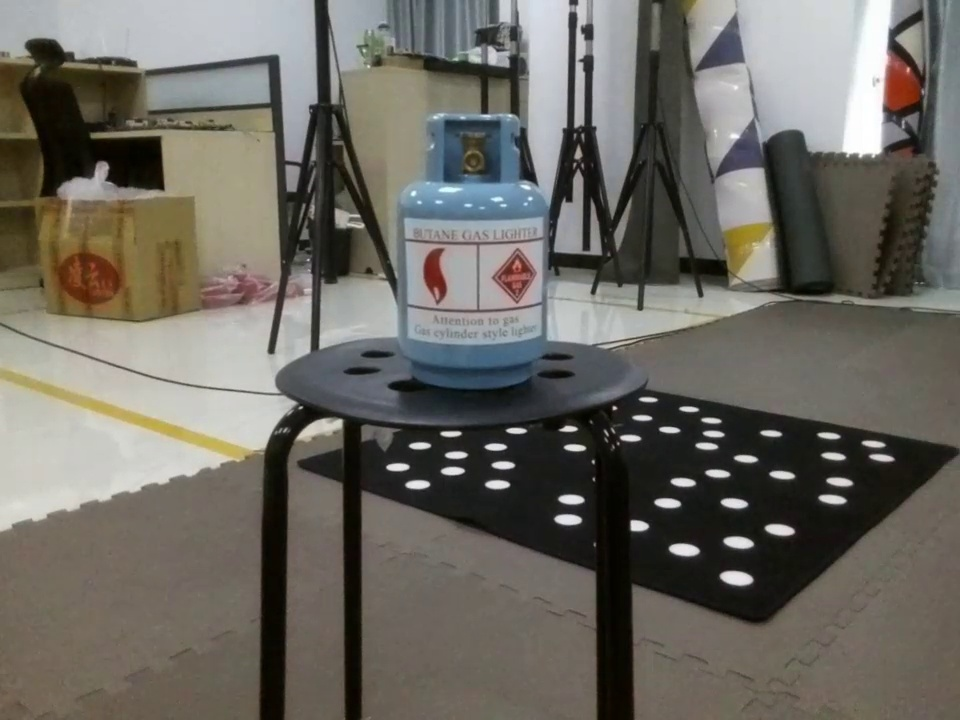gas tank: (383, 110, 564, 394)
